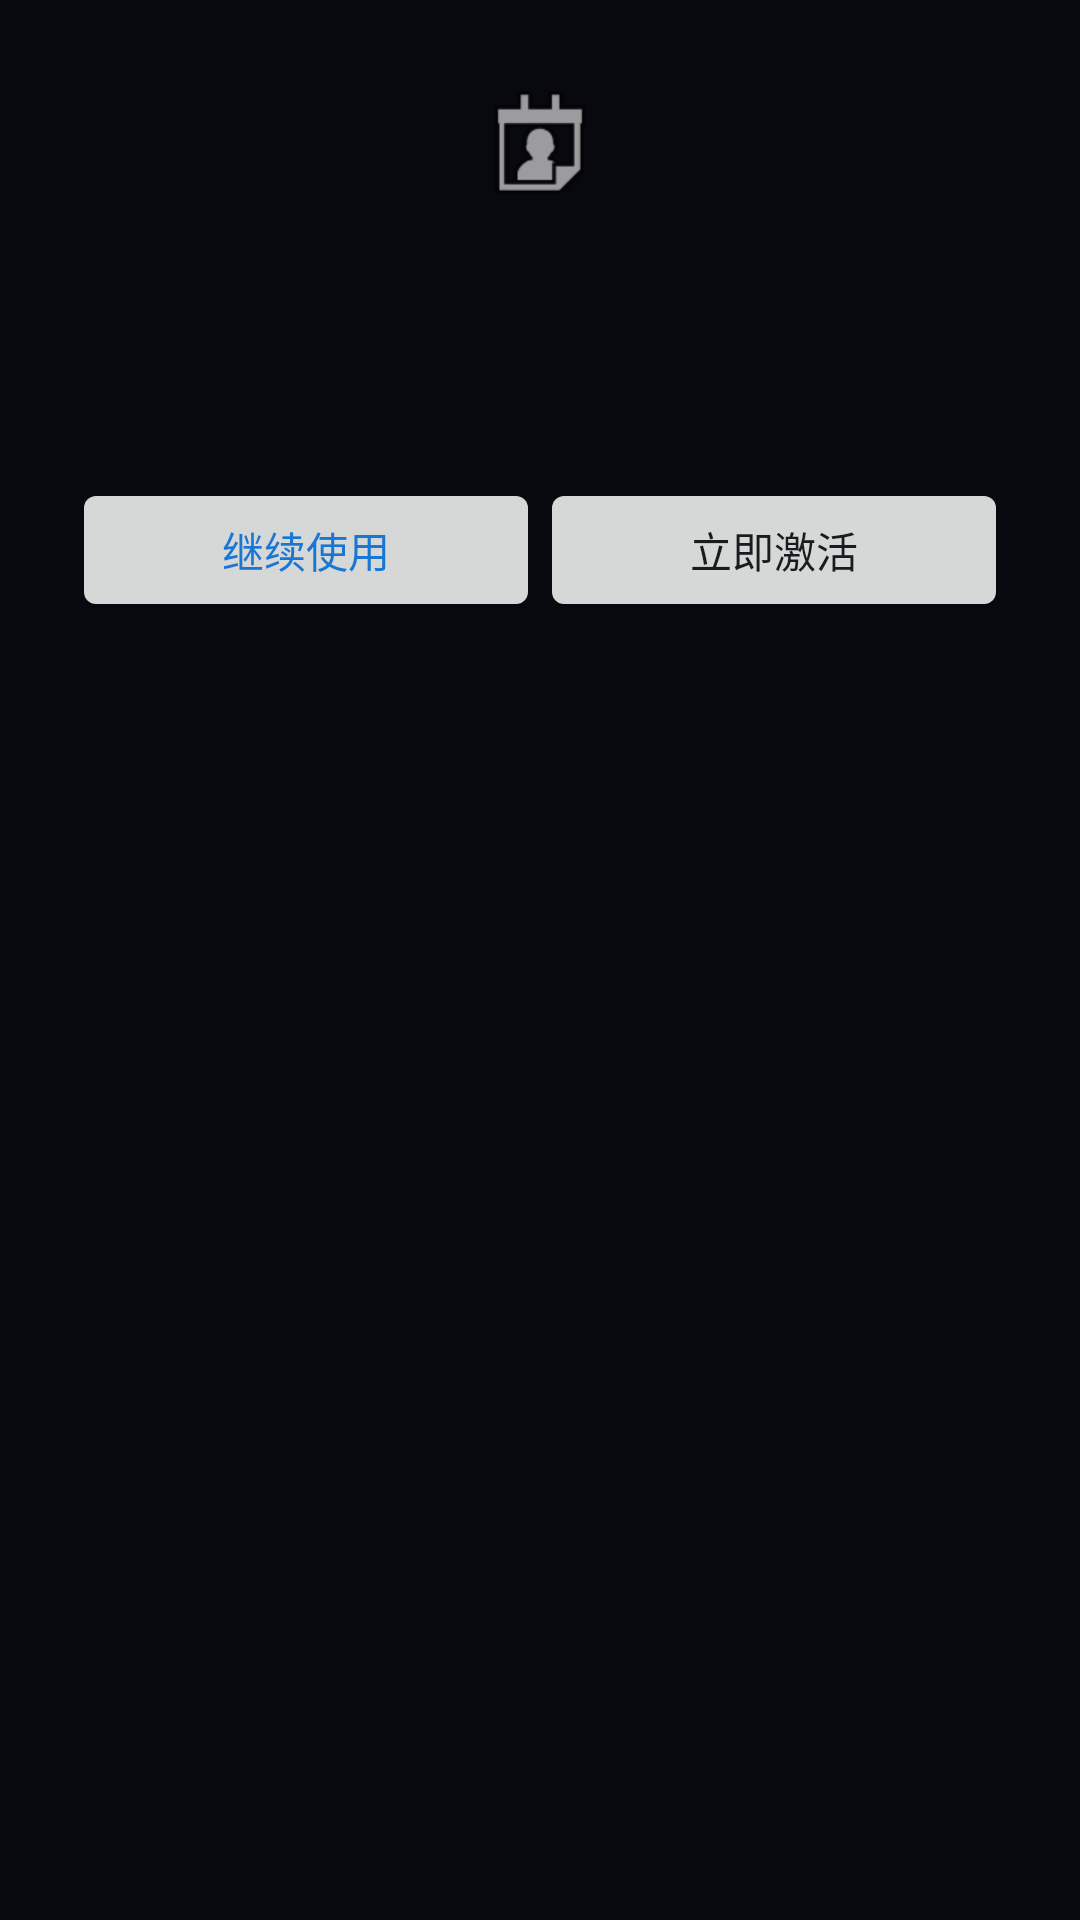

Where to tap for icons on this 1080x1920 app screen, as (x,y):
calendar: (540,142)
